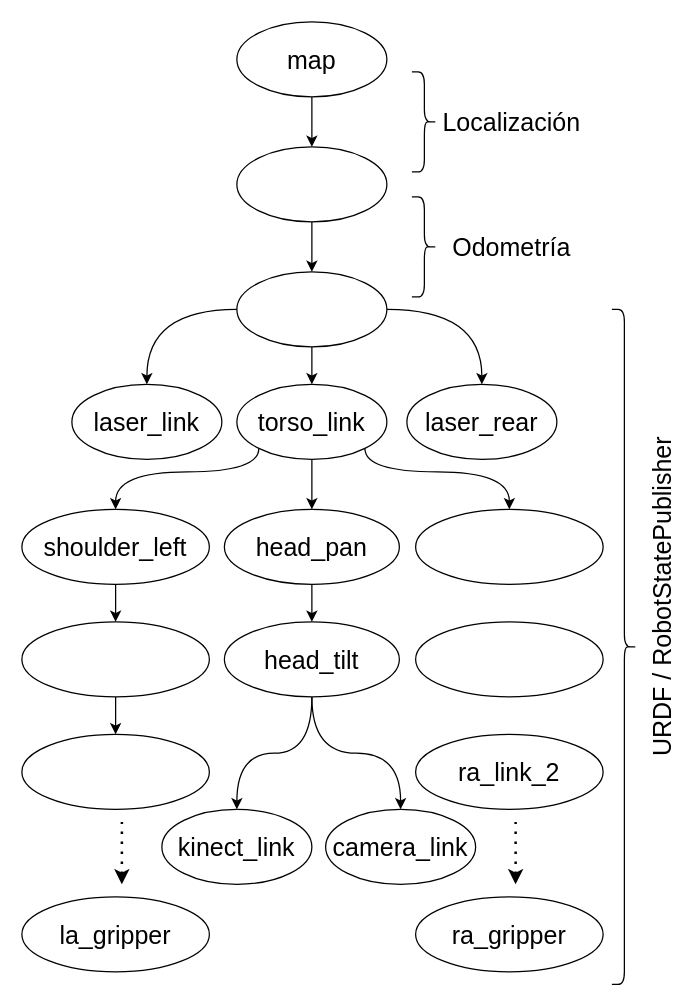
Some shapes in this 699 by 1006 pixel diagram are drawn without their labels. Each missing label, with the box of its shape:
base_link: (236, 271, 387, 347)
la_link_1: (21, 621, 209, 697)
la_link_2: (21, 733, 209, 809)
odom: (236, 146, 387, 222)
ra_link_1: (414, 621, 603, 697)
shoulder_right: (414, 508, 603, 584)
